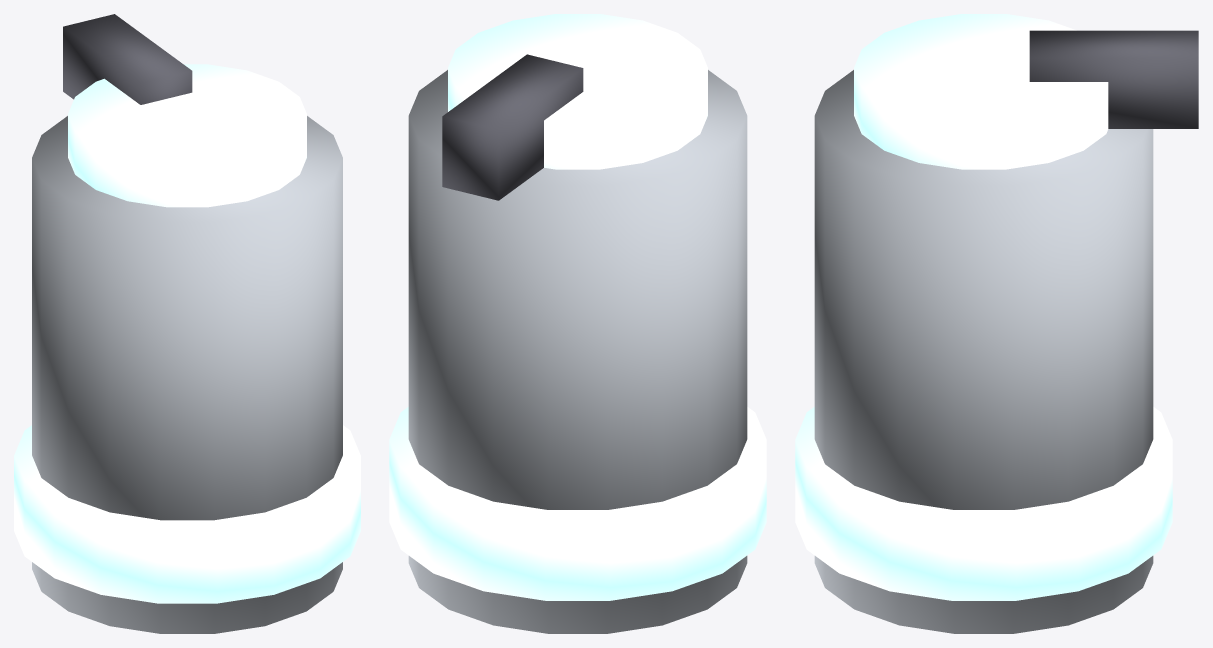
The model's file is Prop_DecreaseRisk.fbx.
3 renders of one model, left to right at view 1: azimuth 30°, elevation 25°; view 2: azimuth 150°, elevation 25°; view 3: azimuth 270°, elevation 25°, orthographic. The views are drawn at different scales.
Parts seen in each view (by area): view 1: Prop_DecreaseRisk; view 2: Prop_DecreaseRisk; view 3: Prop_DecreaseRisk.
Part boxes in pixels (x1=…): Prop_DecreaseRisk: x1=14, y1=14, x2=360, y2=633; Prop_DecreaseRisk: x1=389, y1=14, x2=766, y2=633; Prop_DecreaseRisk: x1=795, y1=14, x2=1198, y2=633.
Size of the model in its own units: 5.71 by 8.8 by 6.2.
